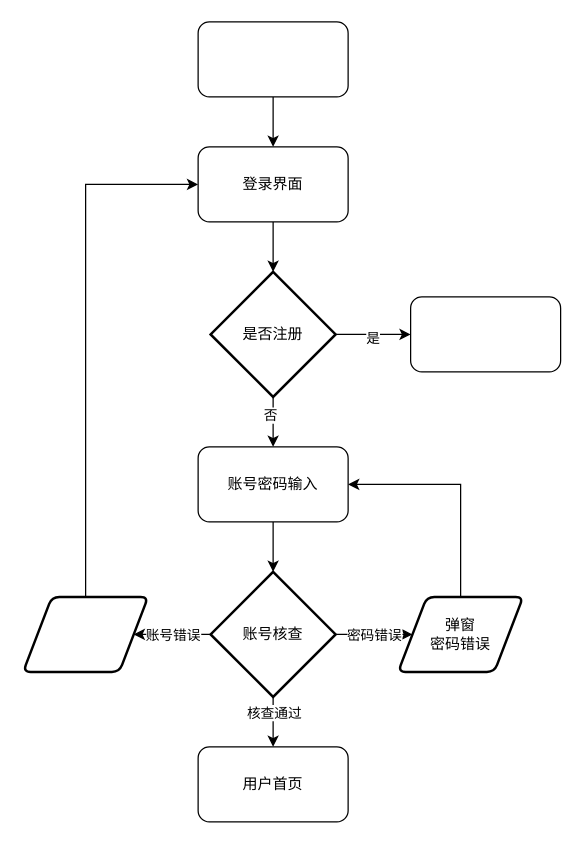
The diagram is 583 pixels wide and 844 high, and some of its shapes have lost their labels. The centre of each missing label's shape, as x and y in pixels:
启动界面: the point at 272,59
弹窗 账号不存在: the point at 85,633
注册界面: the point at 485,334
